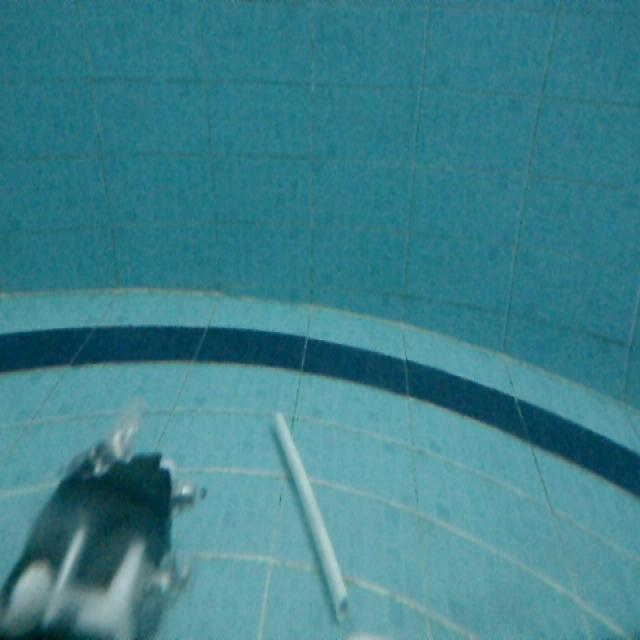Cube: (268, 408, 353, 625)
